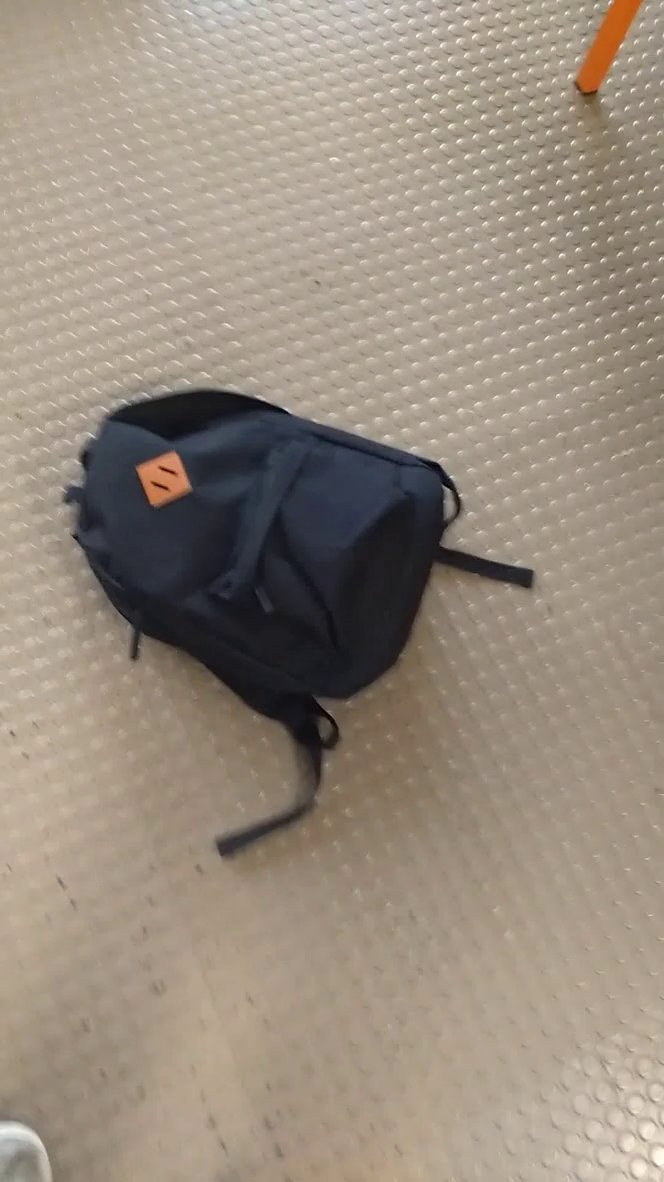bag: (57, 384, 547, 874)
